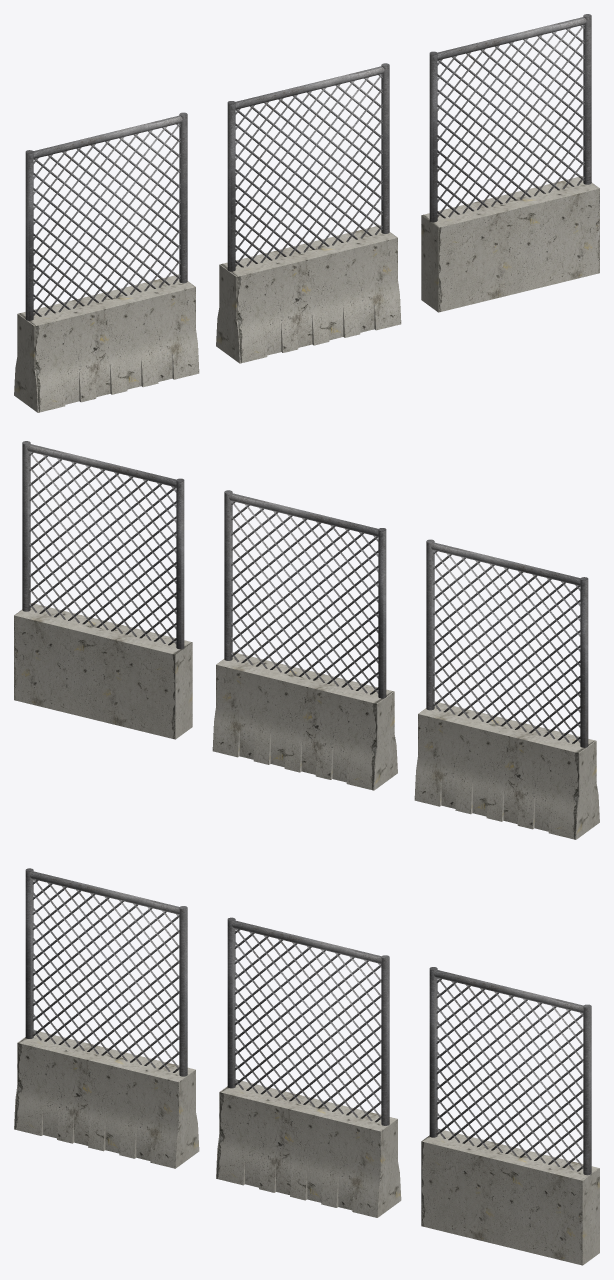
Rendered from barrier_fence.glb.
3 views of the same model, one above another, from view 1: azimuth 30°, elevation 25°; view 2: azimuth 150°, elevation 25°; view 3: azimuth 330°, elevation 25° (orthographic).
Visible parts, largest first — view 1: Cube.002, Cube, Cube.001, Cylinder.003, Cylinder.002, Cylinder.001; view 2: Cube.002, Cube, Cube.001, Cylinder.003, Cylinder.002, Cylinder.001; view 3: Cube.002, Cube, Cube.001, Cylinder.002, Cylinder.003, Cylinder.001.
Boxes of the visible parts, x1,y1,x2,y2 form: Cube.002: [14, 274, 199, 412]; Cube: [216, 225, 401, 363]; Cube.001: [421, 176, 599, 312]; Cylinder.003: [429, 14, 591, 222]; Cylinder.002: [227, 63, 389, 271]; Cylinder.001: [25, 112, 187, 320]; Cube.002: [414, 701, 599, 839]; Cube: [212, 652, 397, 790]; Cube.001: [14, 603, 192, 739]; Cylinder.003: [22, 441, 184, 649]; Cylinder.002: [224, 490, 386, 698]; Cylinder.001: [426, 539, 588, 747]; Cube.002: [14, 1030, 199, 1168]; Cube: [216, 1079, 401, 1217]; Cube.001: [421, 1129, 599, 1265]; Cylinder.002: [227, 917, 389, 1125]; Cylinder.003: [429, 967, 591, 1175]; Cylinder.001: [25, 868, 187, 1076].
Size of the model in its own units: 14 by 5.96 by 1.02.
6 materials, 6 textured.
